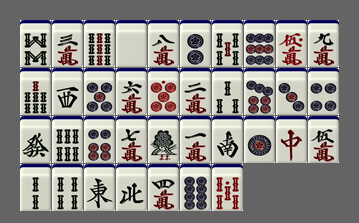0m: (276, 20, 307, 67)
0p: (148, 68, 179, 115)
0s: (212, 164, 243, 211)
1m: (180, 116, 211, 163)
1p: (244, 116, 275, 163)
1s: (148, 116, 179, 163)
1z: (84, 164, 115, 211)
2m: (180, 68, 211, 115)
2p: (180, 20, 211, 67)
2s: (20, 164, 51, 211)
2z: (212, 116, 243, 163)
3m: (52, 20, 83, 67)
3p: (276, 68, 307, 115)
3s: (212, 68, 243, 115)
3z: (52, 68, 83, 115)
4m: (148, 164, 179, 211)
4p: (308, 68, 339, 115)
4s: (52, 164, 83, 211)
4z: (116, 164, 147, 211)
5m: (308, 116, 339, 163)
5p: (84, 68, 115, 115)
5s: (212, 20, 243, 67)
5z: (116, 20, 147, 67)
6m: (116, 68, 147, 115)
6p: (84, 116, 115, 163)
6s: (52, 116, 83, 163)
6z: (20, 116, 51, 163)
7m: (116, 116, 147, 163)
7p: (244, 68, 275, 115)
7s: (20, 68, 51, 115)
7z: (276, 116, 307, 163)
8m: (148, 20, 179, 67)
8p: (180, 164, 211, 211)
8s: (20, 20, 51, 67)
9m: (308, 20, 339, 67)
9p: (244, 20, 275, 67)
9s: (84, 20, 115, 67)
